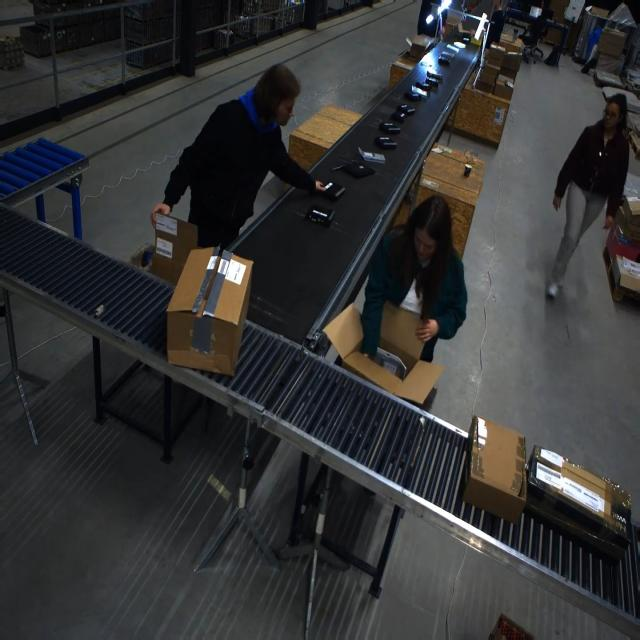box: (523, 443, 634, 566), (166, 246, 253, 374), (330, 304, 439, 404), (463, 421, 528, 521), (150, 213, 199, 287)
product: (331, 155, 372, 181), (304, 205, 334, 226), (358, 147, 382, 163), (374, 136, 395, 148), (391, 110, 411, 122), (379, 121, 400, 132), (425, 74, 441, 86), (397, 104, 414, 115), (405, 91, 423, 101), (442, 47, 457, 58), (415, 81, 431, 91), (437, 55, 451, 65), (461, 37, 470, 43)
